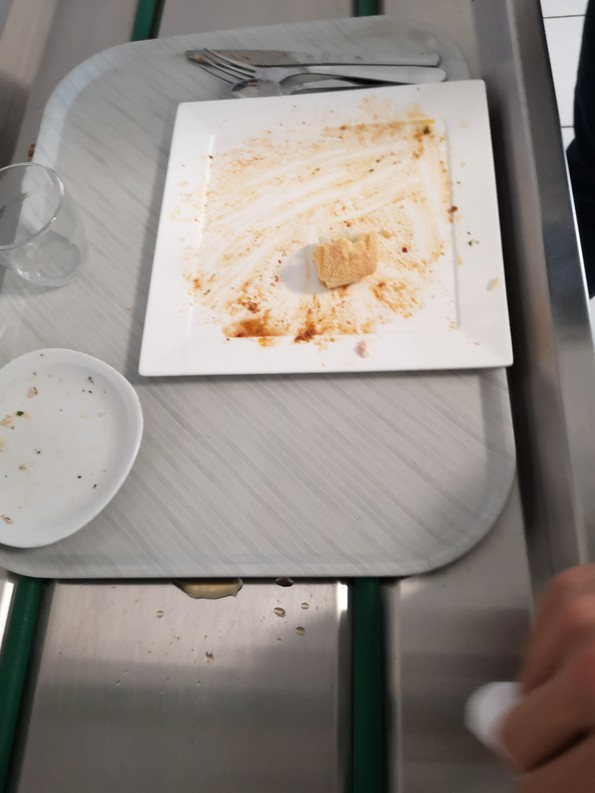cup: (1, 153, 85, 295)
cutlery: (181, 37, 467, 98)
orga: (307, 214, 390, 293)
